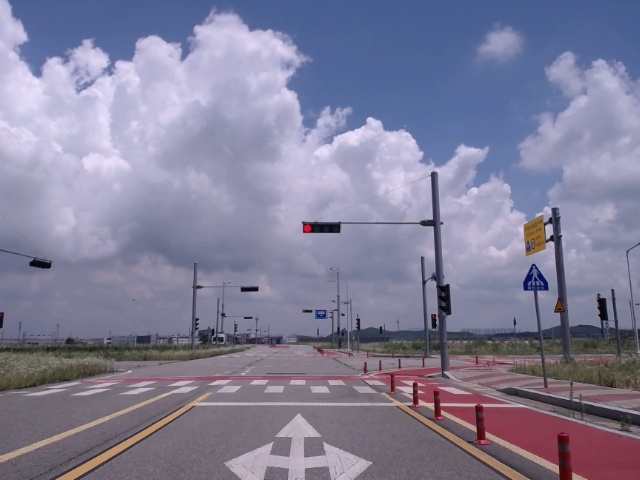red_4: (303, 222, 340, 233)
